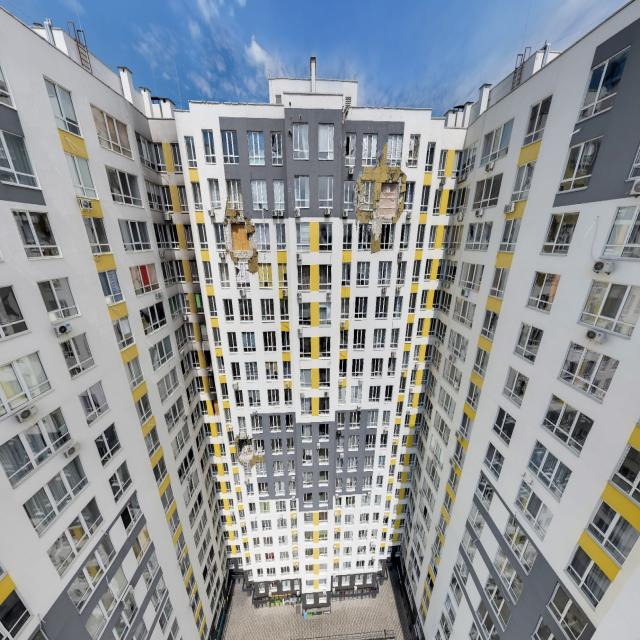broken_window: (12, 208, 61, 260), (0, 285, 29, 341), (60, 333, 95, 379), (105, 165, 143, 207), (509, 157, 537, 203), (502, 366, 529, 407), (129, 264, 161, 297), (82, 217, 112, 252), (140, 301, 167, 336), (465, 221, 493, 252), (452, 296, 476, 331), (447, 329, 469, 364), (479, 307, 500, 343), (489, 266, 510, 302), (182, 469, 200, 509), (177, 447, 195, 484), (472, 346, 490, 379), (189, 490, 204, 529), (386, 132, 403, 166), (362, 133, 378, 167), (465, 381, 482, 411), (407, 134, 421, 168), (380, 223, 396, 251), (271, 130, 283, 167), (234, 262, 250, 288), (180, 351, 193, 382), (319, 222, 332, 253), (168, 293, 182, 321), (213, 222, 227, 250), (403, 181, 416, 211), (358, 225, 373, 251), (345, 132, 356, 167), (297, 265, 311, 292), (258, 263, 273, 288), (425, 141, 436, 174), (342, 223, 353, 250), (278, 262, 288, 288), (344, 180, 354, 205), (194, 291, 204, 314), (253, 437, 265, 456), (204, 349, 213, 370), (216, 356, 225, 376), (244, 461, 251, 478), (249, 503, 257, 515)
building: (0, 3, 640, 640), (187, 99, 269, 109)
damage: (354, 140, 407, 253), (223, 200, 258, 273), (234, 432, 264, 470), (287, 101, 302, 143), (342, 106, 350, 124)
other: (220, 563, 417, 640)
